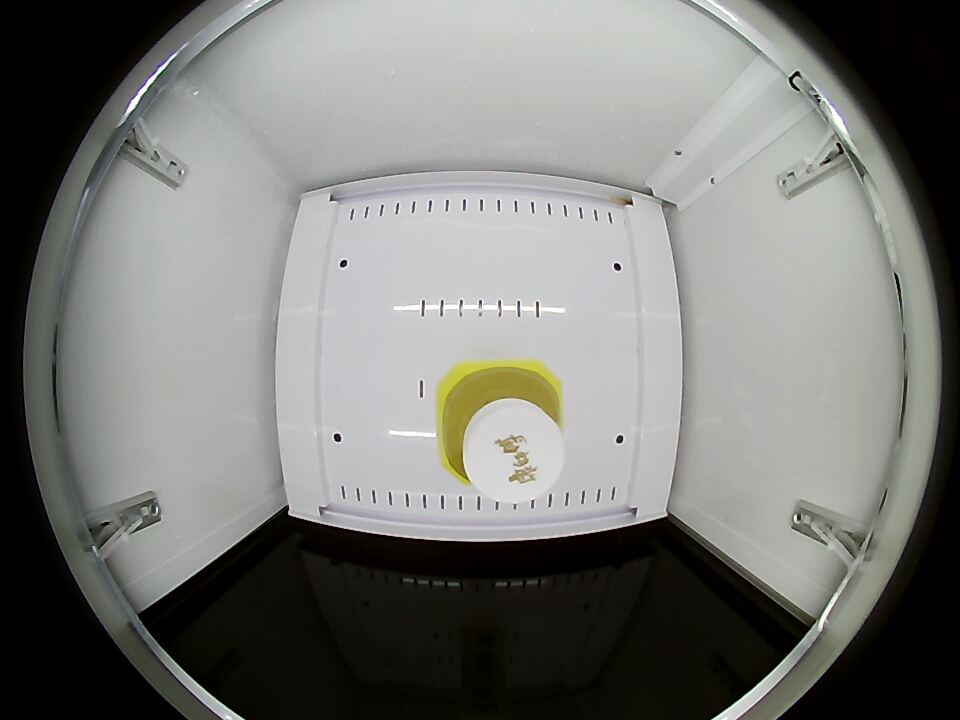bingtangxueli: (437, 359, 565, 501)
